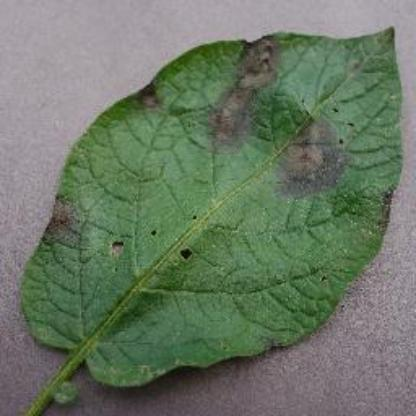Late-Blight: (19, 22, 407, 405)
